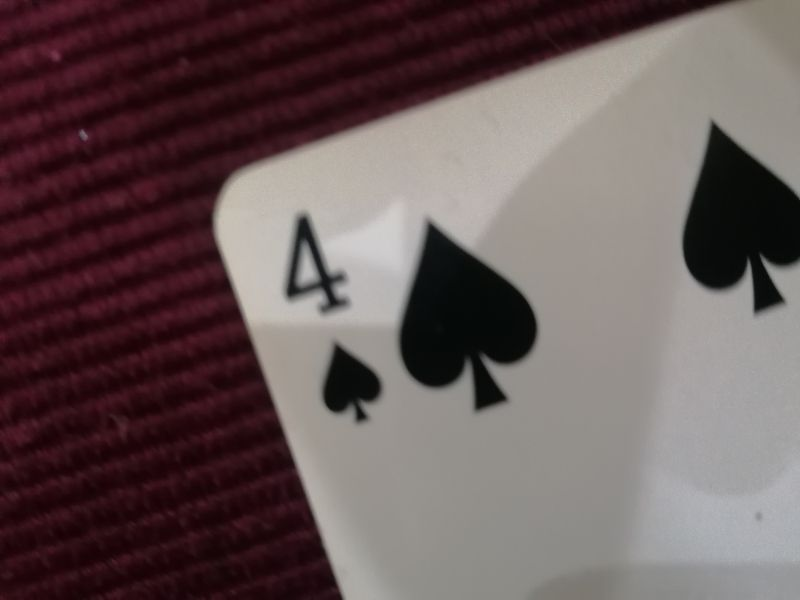4s: (272, 205, 389, 435)
